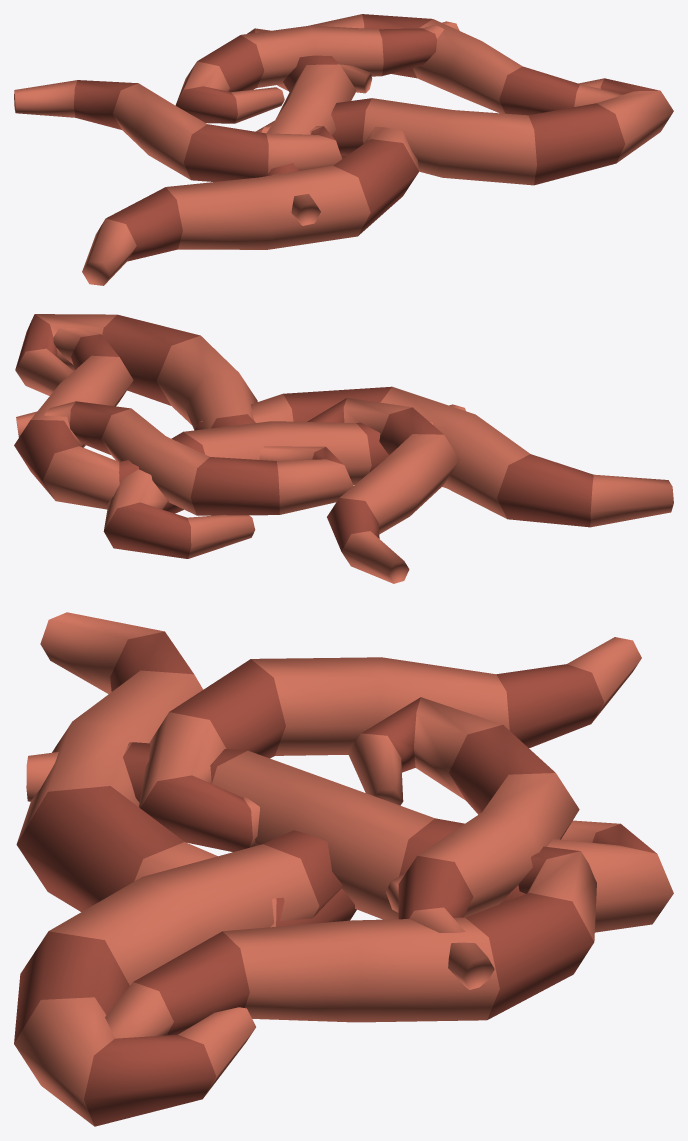
File: FishingBaitStack5Plus.glb
The picture shows the model from 3 angles, top to bottom: view 1: azimuth 30°, elevation 25°; view 2: azimuth 150°, elevation 25°; view 3: azimuth 270°, elevation 25°; orthographic projection. The views are drawn at different scales.
Visible parts, largest first — view 1: EQ_FishingBait_x5plus; view 2: EQ_FishingBait_x5plus; view 3: EQ_FishingBait_x5plus.
Part boxes in pixels (bbox=[...]): EQ_FishingBait_x5plus: bbox=[14, 14, 673, 285]; EQ_FishingBait_x5plus: bbox=[14, 314, 673, 583]; EQ_FishingBait_x5plus: bbox=[14, 612, 673, 1126].
Size of the model in its own units: 0.731 by 0.1017 by 0.4117.
